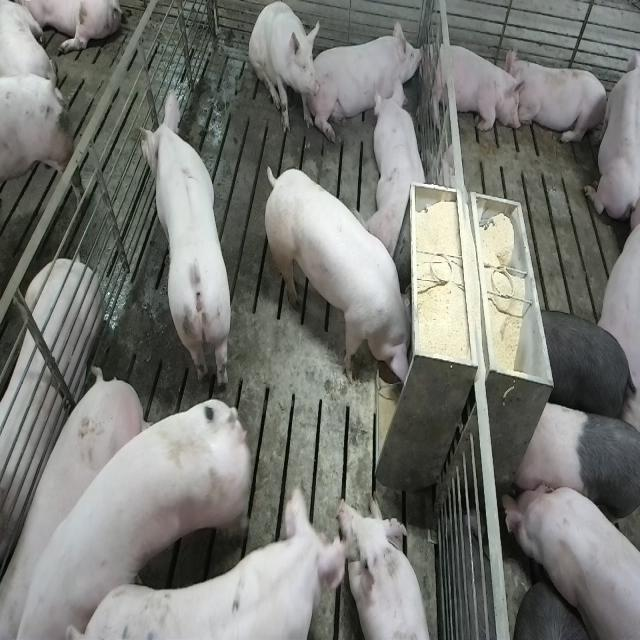Feeding: (270, 165, 421, 393)
Lateral_lying: (0, 256, 102, 623)
Sitting: (249, 2, 320, 137)
Standing: (9, 384, 258, 638), (138, 83, 234, 385), (499, 475, 638, 640), (510, 399, 638, 555), (537, 304, 637, 427)
Sternal_lying: (340, 493, 438, 638), (315, 13, 424, 137), (369, 78, 430, 256), (584, 38, 637, 225), (509, 51, 610, 149), (426, 38, 524, 138)
